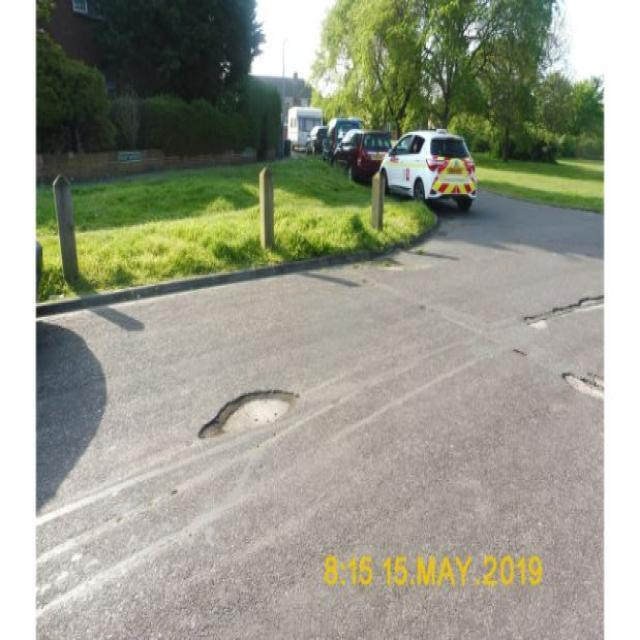pothole: (194, 376, 302, 444)
